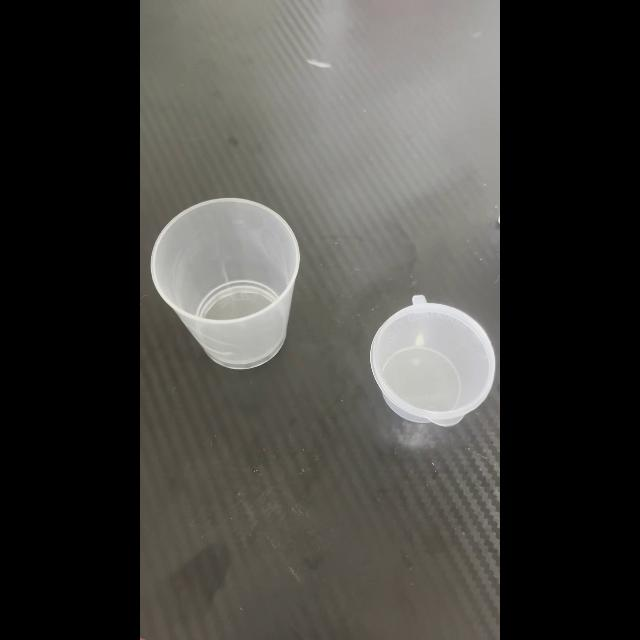clean: (149, 194, 303, 386), (374, 288, 494, 434)
